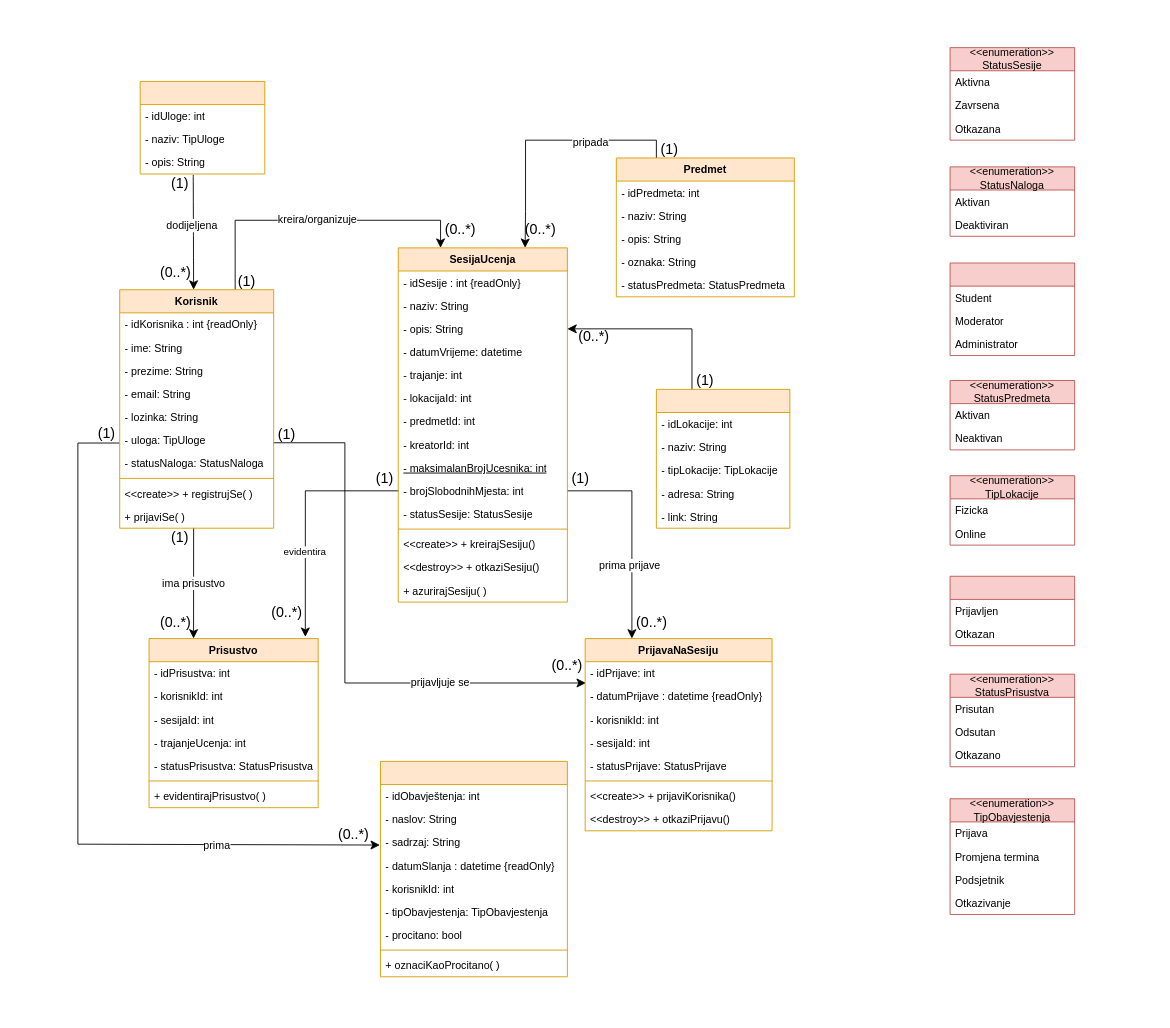
Some shapes in this 1170 by 1028 pixel diagram are drawn without their labels. Here are the shapes that lost their labels. From the top down, the box of each, then its label:
(139, 81, 265, 174): Uloga
(949, 262, 1075, 356): <<enumeration>> TipUloge
(655, 388, 790, 528): Lokacija
(949, 575, 1075, 646): <<enumeration>> StatusPrijave
(380, 761, 567, 977): Obavjestenje
